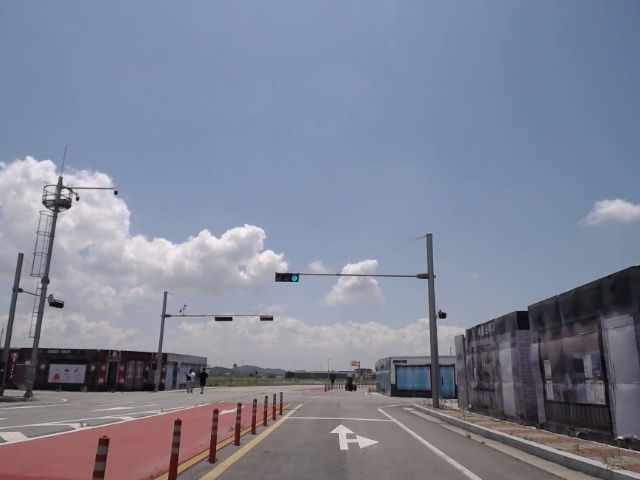green_3: (276, 275, 299, 282)
